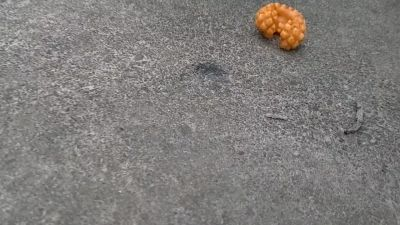eggs: (255, 2, 306, 52)
